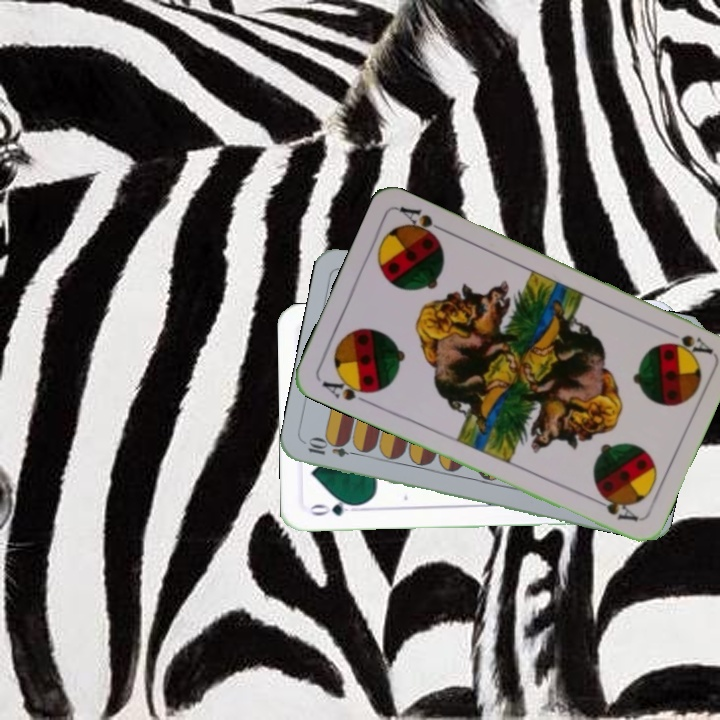E10: (304, 437, 363, 460)
GO: (306, 496, 364, 519)
SA: (317, 371, 377, 407), (659, 324, 715, 358)
